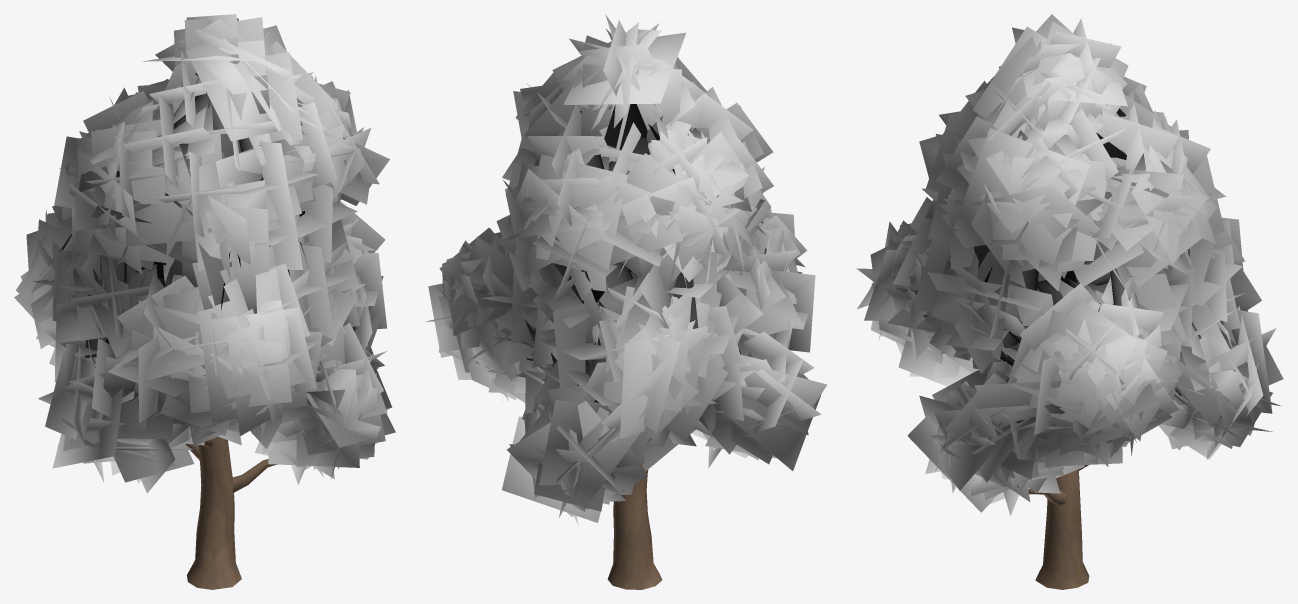
Rendered from shu02.fbx.
The picture shows the model from 3 angles, left to right: view 1: azimuth 30°, elevation 25°; view 2: azimuth 150°, elevation 25°; view 3: azimuth 270°, elevation 25°; orthographic projection.
Parts seen in each view (by area): view 1: shu02_yezi_LOD0, shu02_shugan_LOD0; view 2: shu02_yezi_LOD0, shu02_shugan_LOD0; view 3: shu02_yezi_LOD0, shu02_shugan_LOD0.
Part boxes in pixels (x1,y1,x2,y2): shu02_yezi_LOD0: (14,14,395,493); shu02_shugan_LOD0: (185,436,276,589); shu02_yezi_LOD0: (425,14,827,525); shu02_shugan_LOD0: (607,464,662,589); shu02_yezi_LOD0: (856,14,1283,516); shu02_shugan_LOD0: (1028,465,1089,589).
Size of what is drawn, in the model's own units: 1306 by 1929 by 1342.
Materials: 2 (1 with a texture image).
